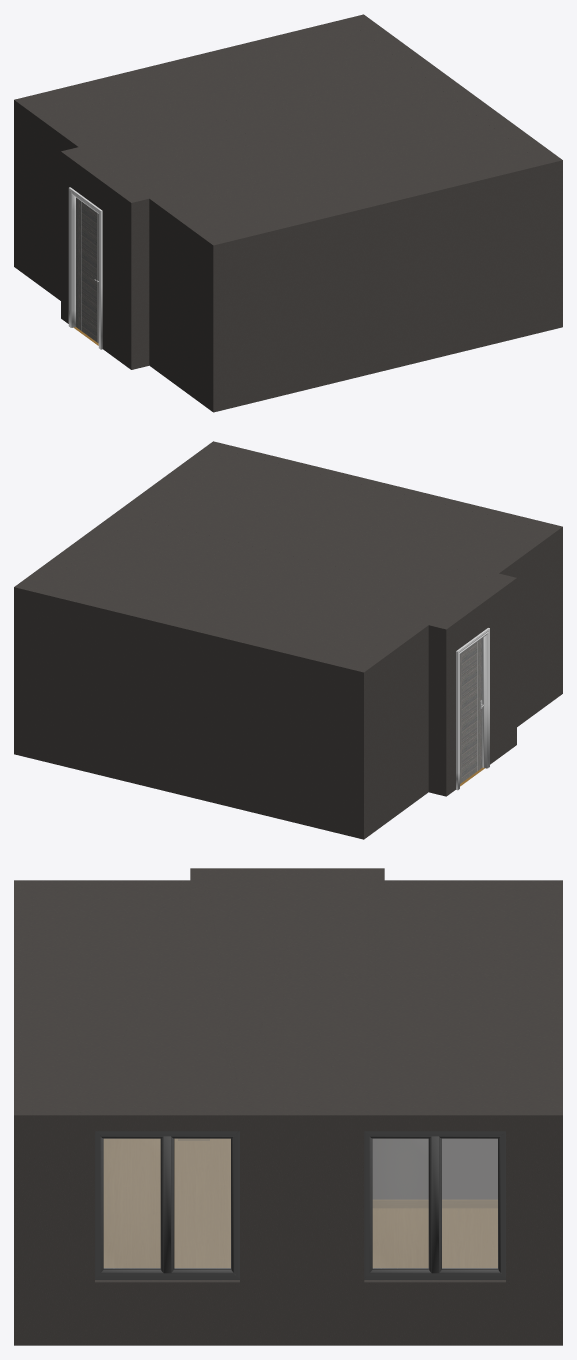
Rendered from apt-1room-3.glb.
3 views of the same model, one above another, from view 1: azimuth 30°, elevation 25°; view 2: azimuth 150°, elevation 25°; view 3: azimuth 270°, elevation 25° (orthographic). The views are drawn at different scales.
Visible parts, largest first — view 1: Walls, Ceiling, Seattle_Door_1981 _762, Basic_Door_Frame_1981_762.002; view 2: Walls, Ceiling, Seattle_Door_1981 _762, Basic_Door_Frame_1981_762.002; view 3: Walls, Ceiling, Floor, B_2_4_3_Interior_Glass., B_2_4_4_Interior_Glass, B_2_4_1Exterior_Glass, B_2_4_2_Exterior_Glass., B_2_4_2_Exterior_Glass..001, B_2_4_3_Interior_Glass..001, B_2_4_4_Interior_Glass.001, B_2_4_1Exterior_Glass.001, B_2_1_1_PVC_Window_Frame (+8 smaller).
Part boxes in pixels (bbox=[...]): Walls: bbox=[14, 14, 562, 412]; Ceiling: bbox=[44, 24, 536, 237]; Seattle_Door_1981 _762: bbox=[76, 197, 98, 343]; Basic_Door_Frame_1981_762.002: bbox=[68, 187, 102, 349]; Walls: bbox=[14, 441, 562, 839]; Ceiling: bbox=[40, 451, 545, 658]; Seattle_Door_1981 _762: bbox=[460, 638, 482, 783]; Basic_Door_Frame_1981_762.002: bbox=[456, 628, 489, 790]; Walls: bbox=[14, 868, 562, 1345]; Ceiling: bbox=[32, 876, 542, 1102]; Floor: bbox=[104, 1139, 497, 1267]; B_2_4_3_Interior_Glass.: bbox=[104, 1139, 160, 1268]; B_2_4_4_Interior_Glass: bbox=[174, 1139, 230, 1268]; B_2_4_1Exterior_Glass: bbox=[104, 1139, 160, 1268]; B_2_4_2_Exterior_Glass.: bbox=[174, 1139, 230, 1268]; B_2_4_2_Exterior_Glass..001: bbox=[442, 1139, 497, 1268]; B_2_4_3_Interior_Glass..001: bbox=[373, 1139, 428, 1268]; B_2_4_4_Interior_Glass.001: bbox=[442, 1139, 497, 1268]; B_2_4_1Exterior_Glass.001: bbox=[373, 1139, 428, 1268]; B_2_1_1_PVC_Window_Frame: bbox=[95, 1131, 239, 1279].
Bounding box in the file's own units: 6.71 × 2.91 × 6.27.
Materials: 27 (9 with a texture image).
